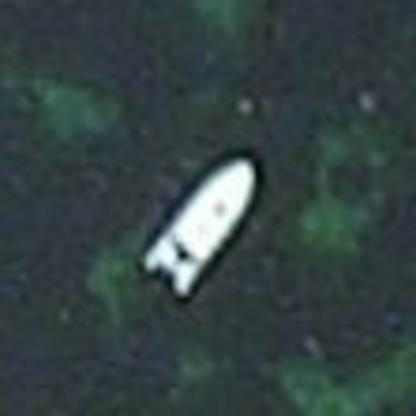ship: (126, 146, 266, 307)
